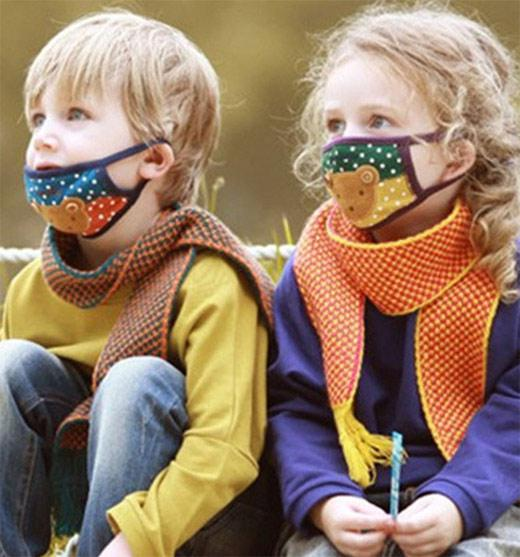OK: (315, 101, 433, 219)
WRONG: (21, 96, 144, 219)
